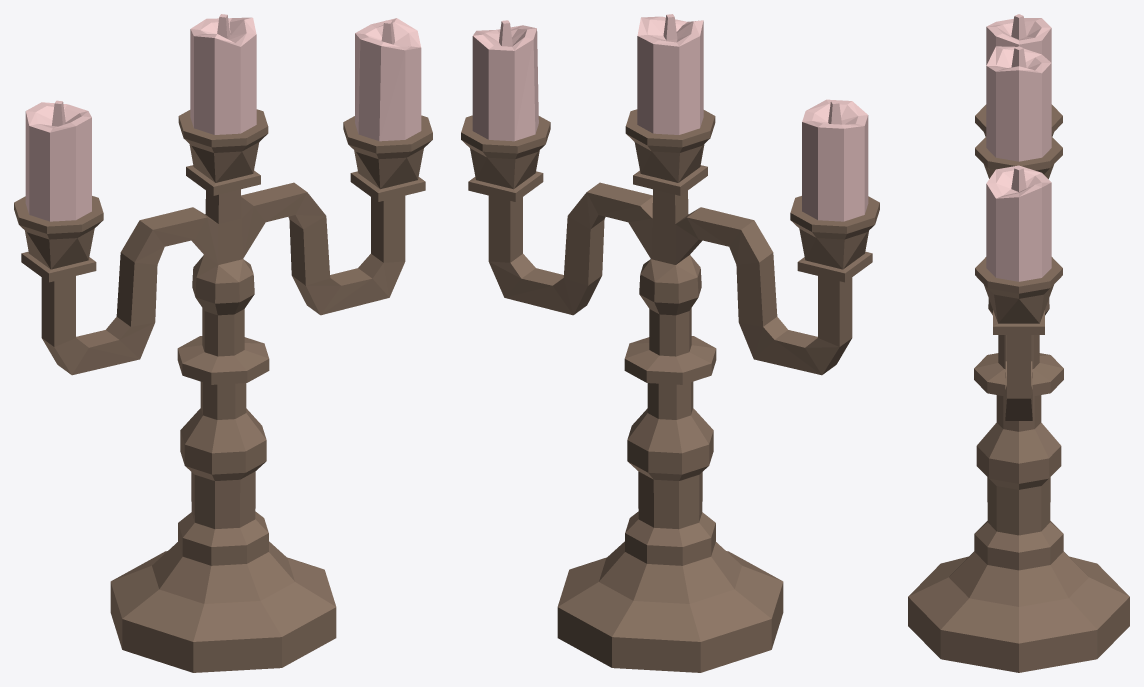
File: SM_Item_Candelabra_01.glb
3 views of the same model, side by side, from view 1: azimuth 30°, elevation 25°; view 2: azimuth 150°, elevation 25°; view 3: azimuth 270°, elevation 25° (orthographic). The views are drawn at different scales.
Visible parts, largest first — view 1: SM_Item_Candelabra_01_00; view 2: SM_Item_Candelabra_01_00; view 3: SM_Item_Candelabra_01_00.
Part boxes in pixels (x1,y1,x2,y2): SM_Item_Candelabra_01_00: [14, 14, 432, 672]; SM_Item_Candelabra_01_00: [461, 14, 879, 672]; SM_Item_Candelabra_01_00: [908, 14, 1129, 672].
Size of the model in its own units: 0.4321 by 0.6148 by 0.2138.
Materials: 1 (1 with a texture image).
